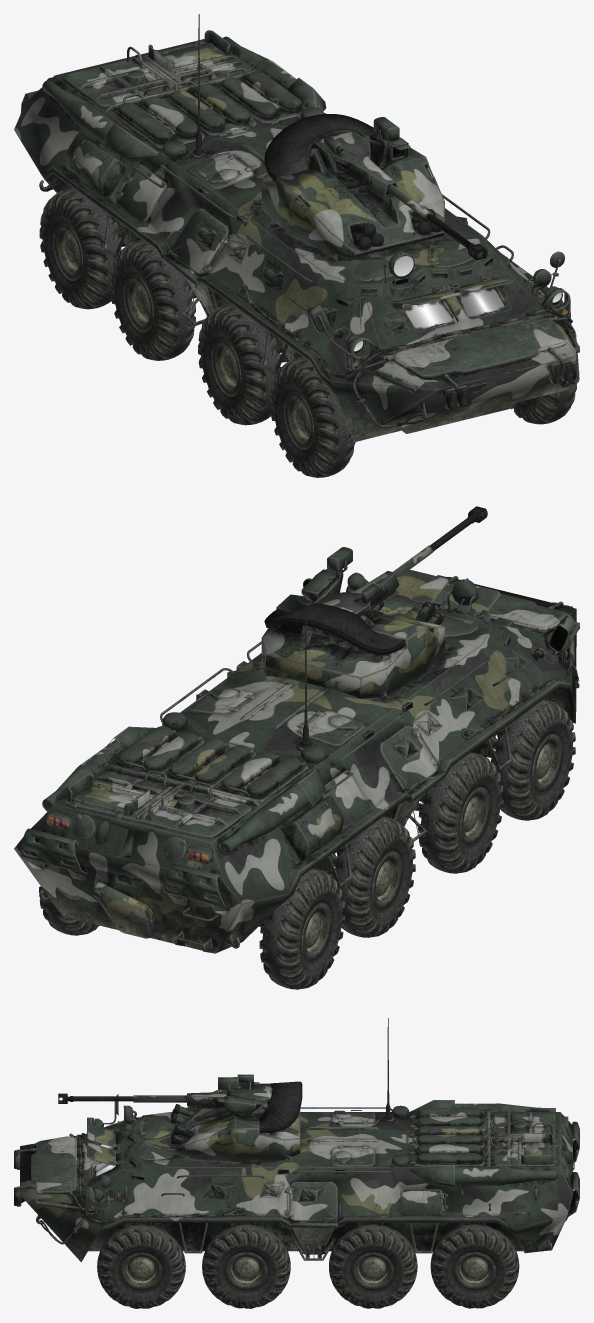
The model's file is btr88.gltf.
3 views of the same model, one above another, from view 1: azimuth 30°, elevation 25°; view 2: azimuth 150°, elevation 25°; view 3: azimuth 270°, elevation 25° (orthographic). The views are drawn at different scales.
Visible parts, largest first — view 1: body, tower, Rear_wheels_1, Front_wheel_R_2, Rear_wheels_2, Front_wheel_R_1, btr_gun, Front_wheel_L_1; view 2: body, tower, Rear_wheels_2, Front_wheel_R_2, Front_wheel_R_1, Rear_wheels_1, btr_gun; view 3: body, tower, Rear_wheels_2, Front_wheel_L_2, Front_wheel_L_1, Rear_wheels_1, btr_gun.
Part boxes in pixels (box(x1,y1,x2,y2)): body: box(14, 14, 579, 442); tower: box(261, 114, 444, 258); Rear_wheels_1: box(110, 239, 195, 360); Front_wheel_R_2: box(198, 304, 280, 425); Rear_wheels_2: box(39, 188, 123, 309); Front_wheel_R_1: box(270, 356, 355, 477); btr_gun: box(310, 131, 487, 260); Front_wheel_L_1: box(511, 383, 576, 424); body: box(14, 570, 579, 953); tower: box(261, 547, 444, 698); Rear_wheels_2: box(39, 868, 345, 989); Front_wheel_R_2: box(418, 752, 503, 873); Front_wheel_R_1: box(491, 699, 575, 820); Rear_wheels_1: box(331, 816, 415, 937); btr_gun: box(309, 506, 487, 639); body: box(14, 1018, 579, 1262); tower: box(170, 1077, 302, 1162); Rear_wheels_2: box(430, 1224, 519, 1308); Front_wheel_L_2: box(202, 1224, 290, 1308); Front_wheel_L_1: box(97, 1224, 185, 1308); Rear_wheels_1: box(329, 1224, 417, 1308); btr_gun: box(58, 1074, 272, 1109).
Size of the model in its own units: 2.92 by 3.43 by 7.61.
5 materials, 5 textured.
